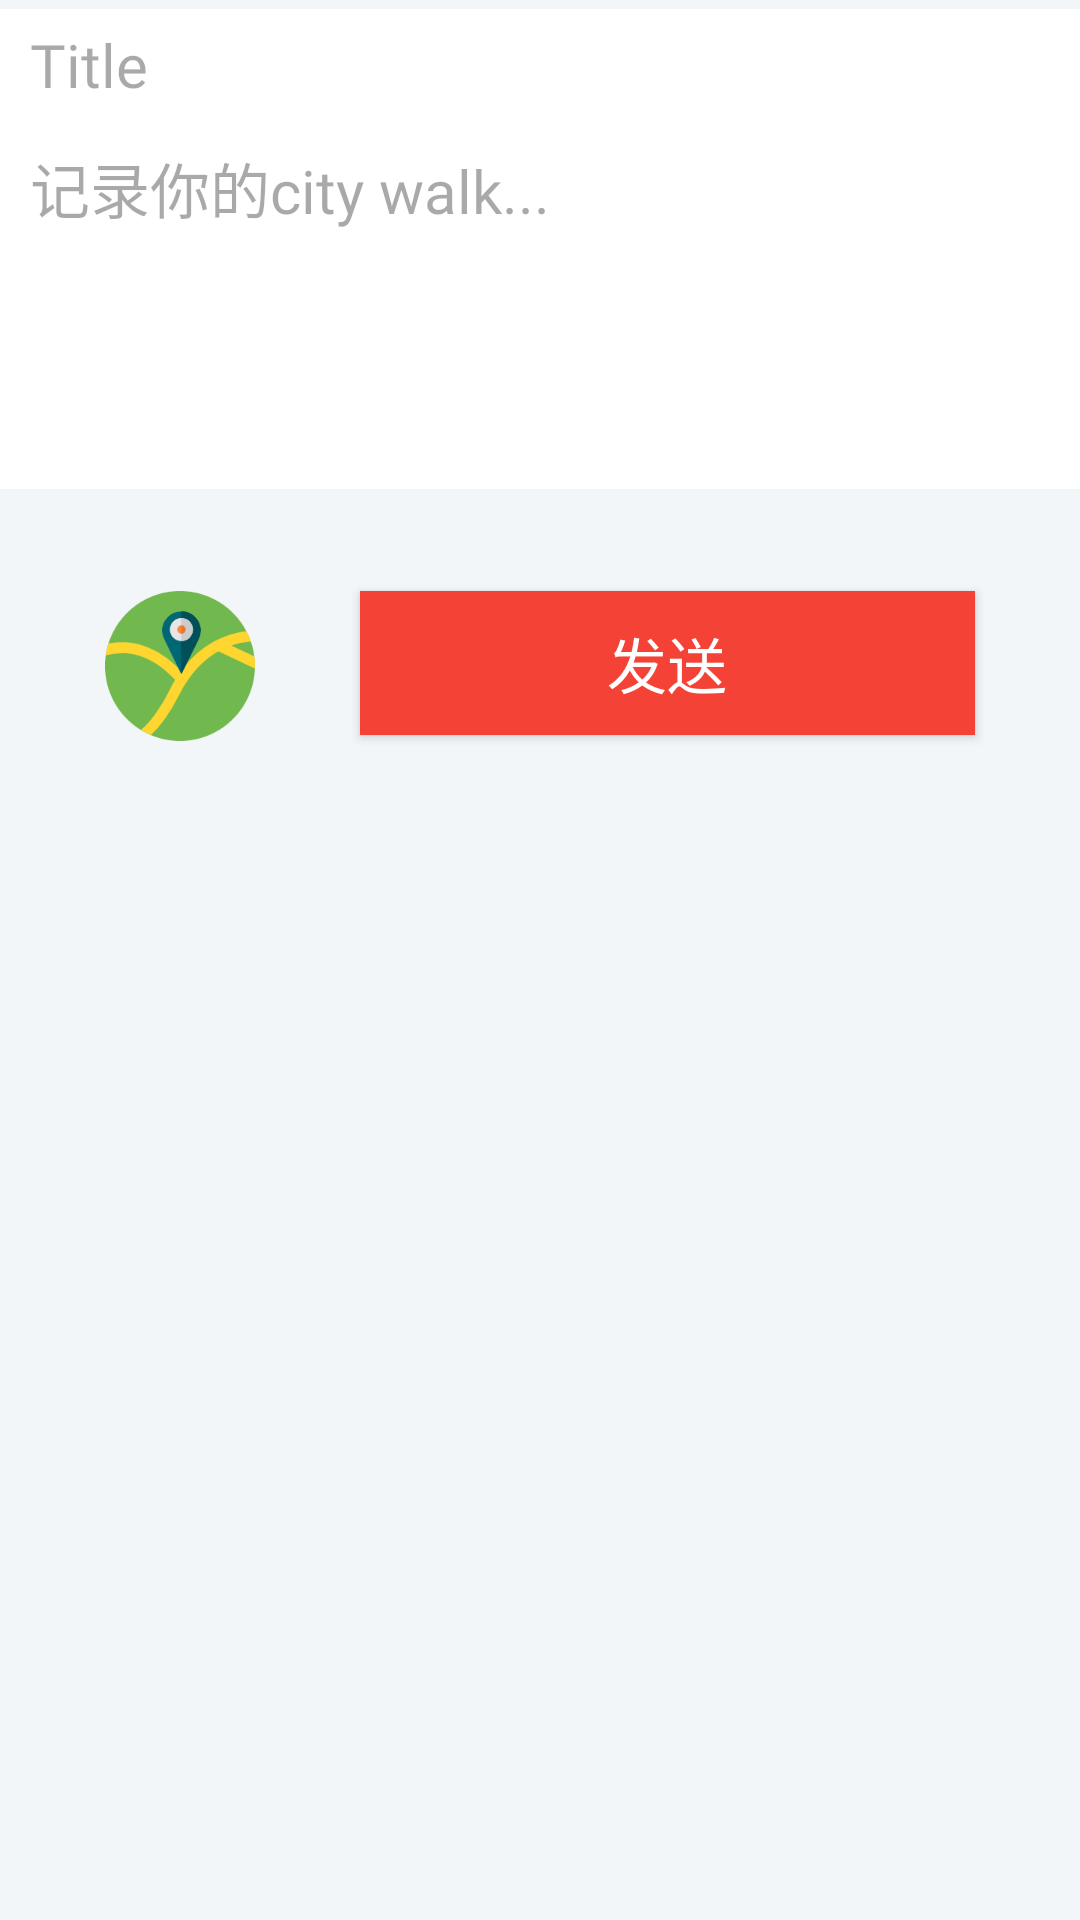

Icon click points for this 1080*1920 phone screenshot, format (x,y):
position: (180,666)
